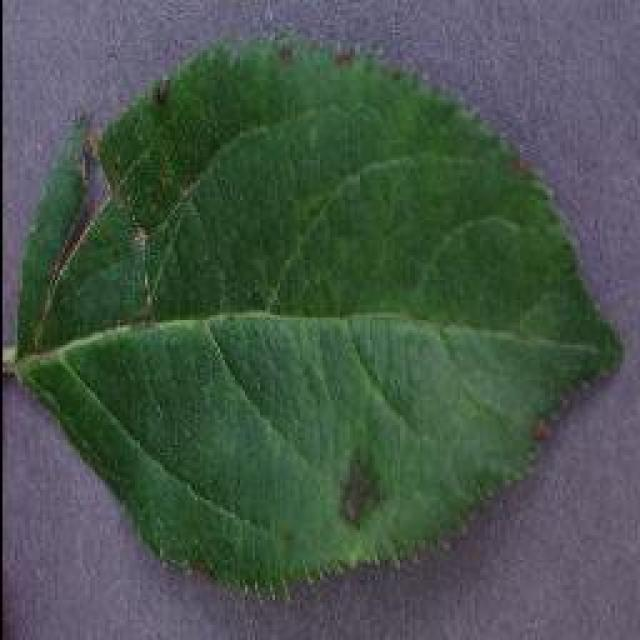apple scab disease: (7, 30, 625, 600)
